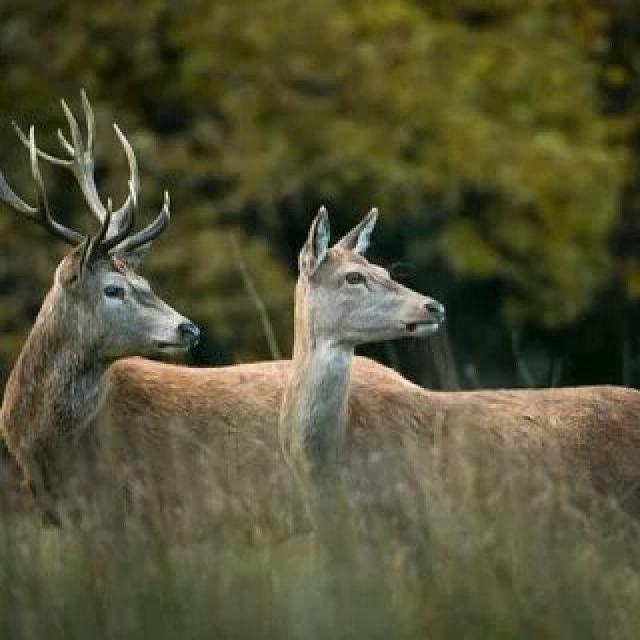deer: (0, 140, 382, 552), (267, 184, 640, 573)
